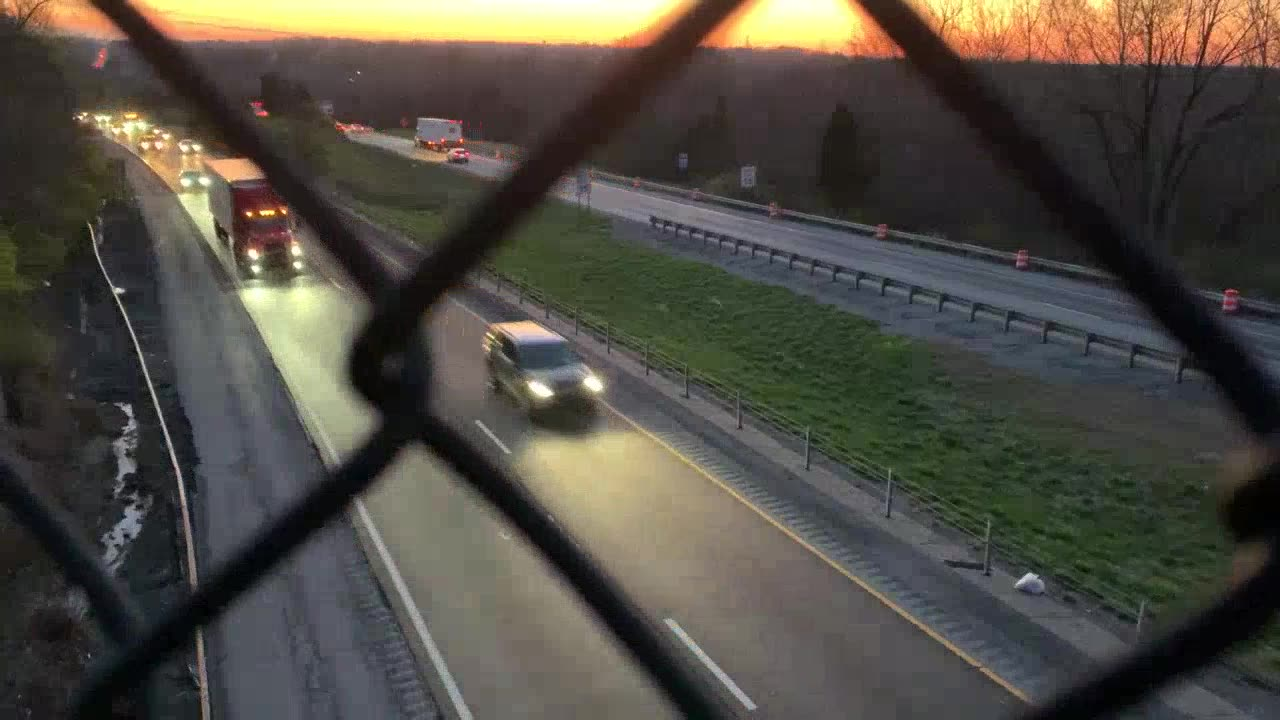heavyTruck: (206, 155, 306, 282), (406, 115, 462, 148)
largeCar: (481, 317, 604, 427), (446, 144, 473, 164)
smallCar: (173, 164, 209, 192)
vehicle: (174, 132, 202, 157), (137, 134, 166, 151), (105, 123, 135, 138), (351, 118, 367, 136)
